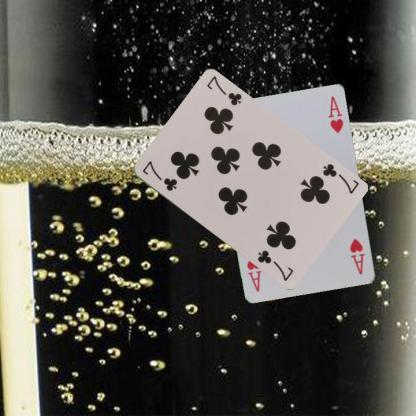7c: (139, 158, 179, 193), (319, 161, 360, 195)
Ah: (348, 235, 366, 276)
